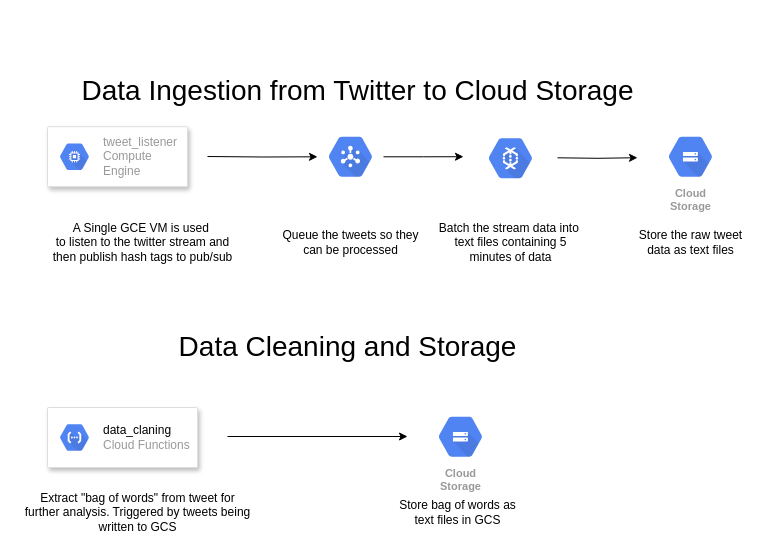
This 767x554 diagram has some shape labels left out. Each missing label, with the centre of its shape:
"Cloud Dataflow" belongs at pixel 510 157.
"Cloud Pub/Sub" belongs at pixel 350 156.
